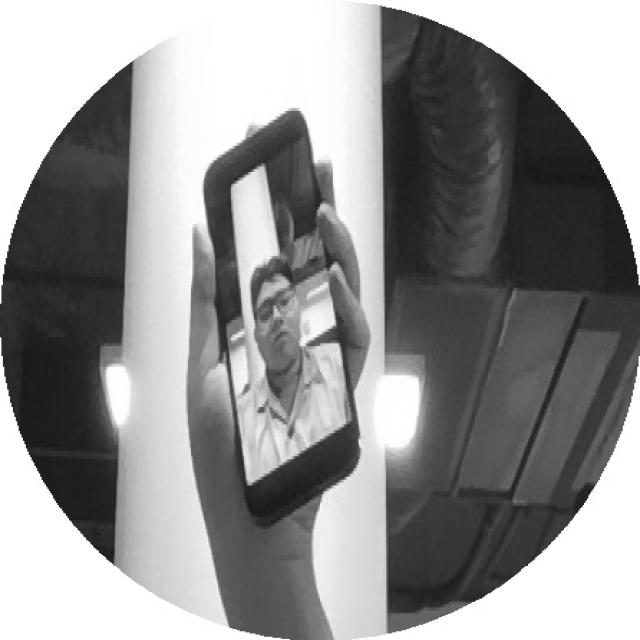fake: (146, 102, 429, 545), (169, 102, 379, 528)
